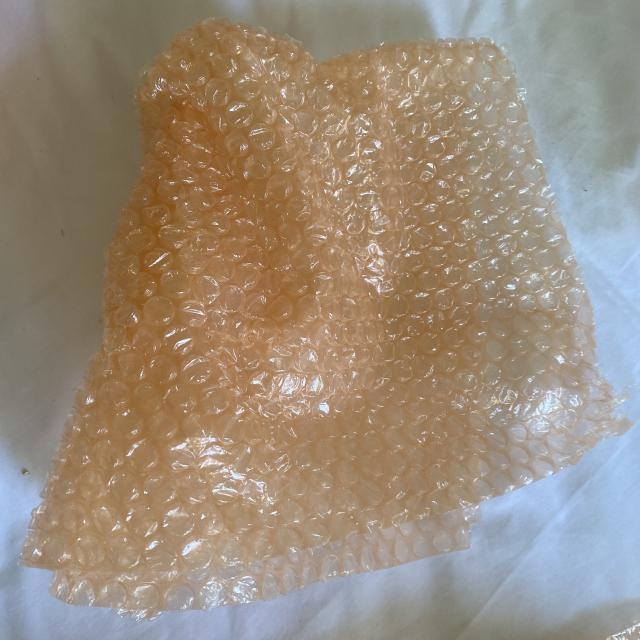Single-layer Plastic: (21, 19, 629, 618)
